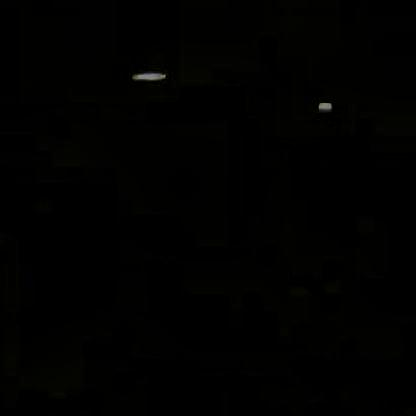golfball: (314, 98, 331, 113)
